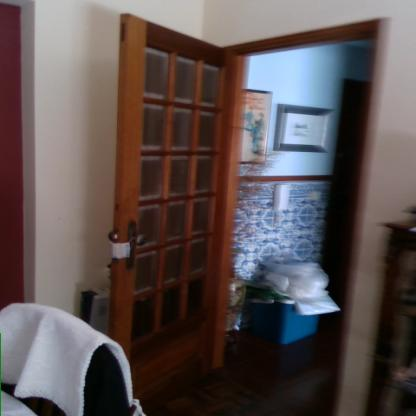open: (96, 4, 393, 416)
